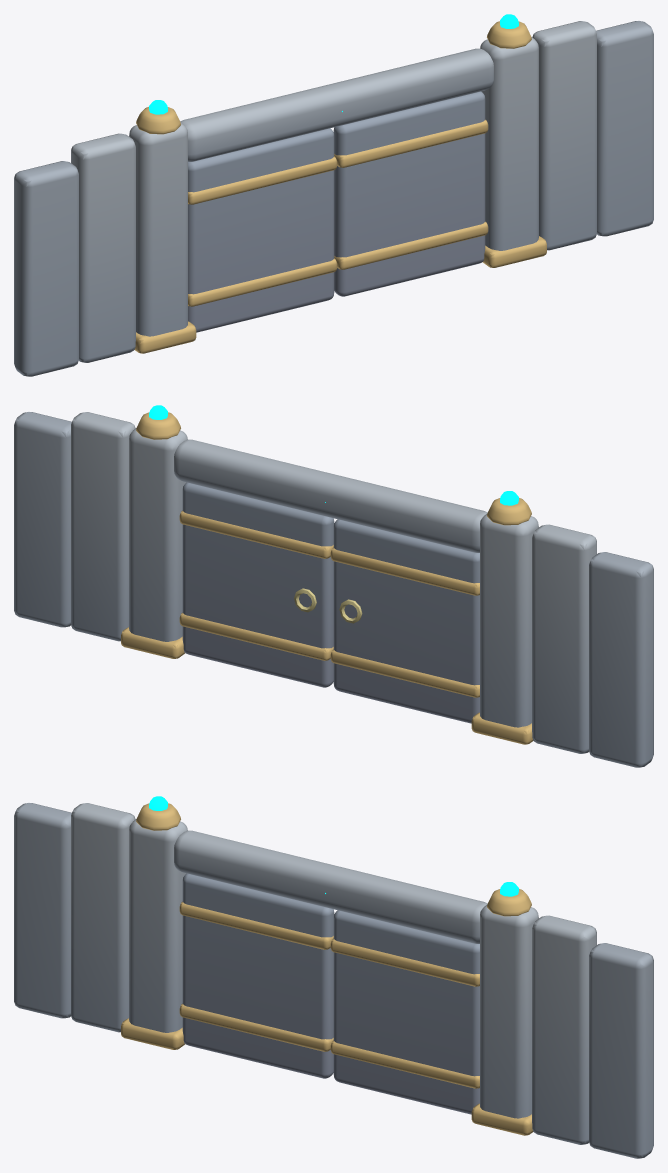
The model's file is gate3.glb.
The picture shows the model from 3 angles, top to bottom: view 1: azimuth 30°, elevation 25°; view 2: azimuth 150°, elevation 25°; view 3: azimuth 330°, elevation 25°; orthographic projection.
Visible parts, largest first — view 1: Body; view 2: Body; view 3: Body.
Part boxes in pixels (box(x1,y1,x2,y2)): Body: box(14, 21, 653, 376); Body: box(14, 412, 653, 767); Body: box(14, 803, 653, 1158).
Bounding box in the file's own units: 38.9 × 14.2 × 2.31.
